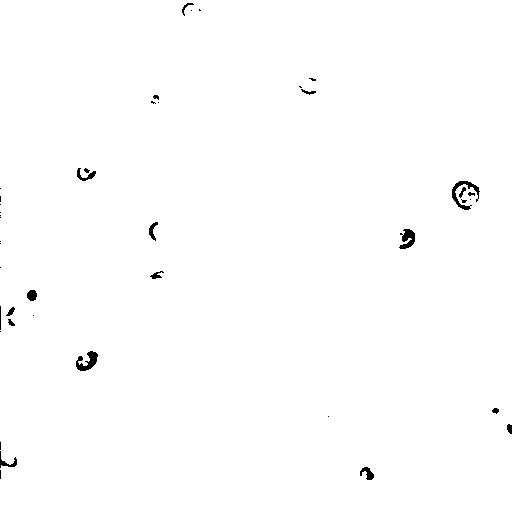micro-algae: (342, 14, 406, 80), (12, 277, 51, 316), (225, 385, 259, 427), (0, 302, 31, 332), (0, 442, 25, 478), (451, 180, 480, 210), (146, 270, 175, 298), (480, 397, 506, 425), (390, 226, 418, 251), (71, 348, 99, 373), (74, 161, 97, 183), (179, 0, 202, 21), (297, 75, 321, 95), (497, 413, 511, 444), (148, 221, 169, 241), (359, 466, 376, 482)
